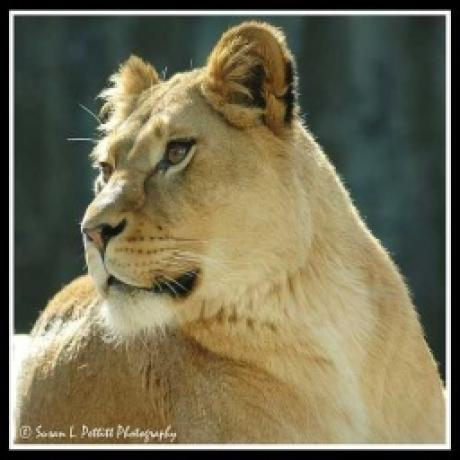Lion: (17, 24, 449, 448)
